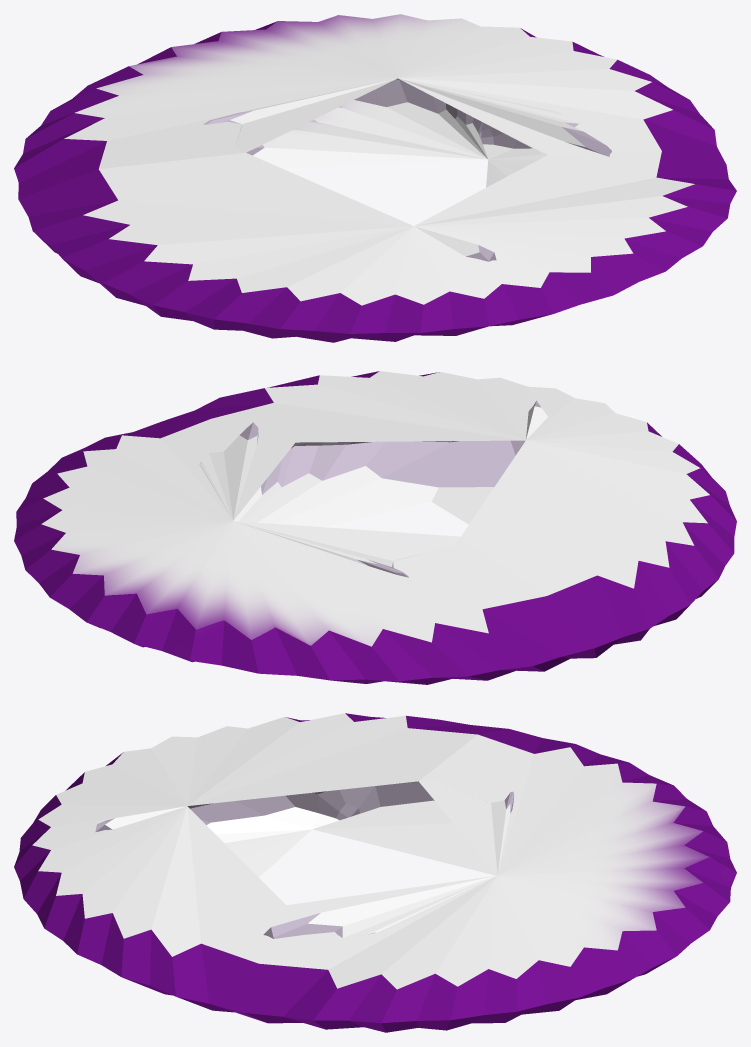
File: Onionblend.fbx
3 renders of one model, top to bottom at view 1: azimuth 30°, elevation 25°; view 2: azimuth 150°, elevation 25°; view 3: azimuth 270°, elevation 25°, orthographic.
Visible parts, largest first — view 1: Cylinder; view 2: Cylinder; view 3: Cylinder.
Part boxes in pixels (x1,y1,x2,y2): Cylinder: (14, 14, 736, 342); Cylinder: (14, 371, 736, 684); Cylinder: (14, 713, 736, 1032).
Bounding box in the file's own units: 191 × 21.93 × 191.
